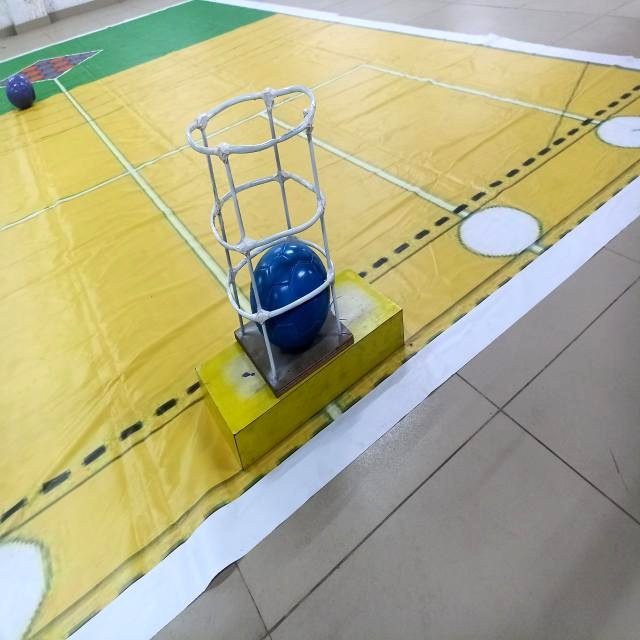blue_ball: (255, 246, 324, 338)
silo: (187, 83, 354, 397)
